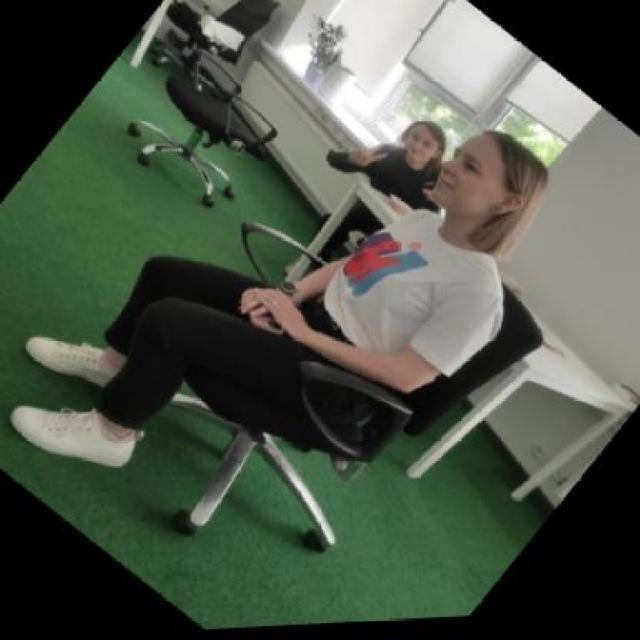chair: (73, 122, 572, 636), (103, 31, 302, 238), (124, 0, 330, 142)
